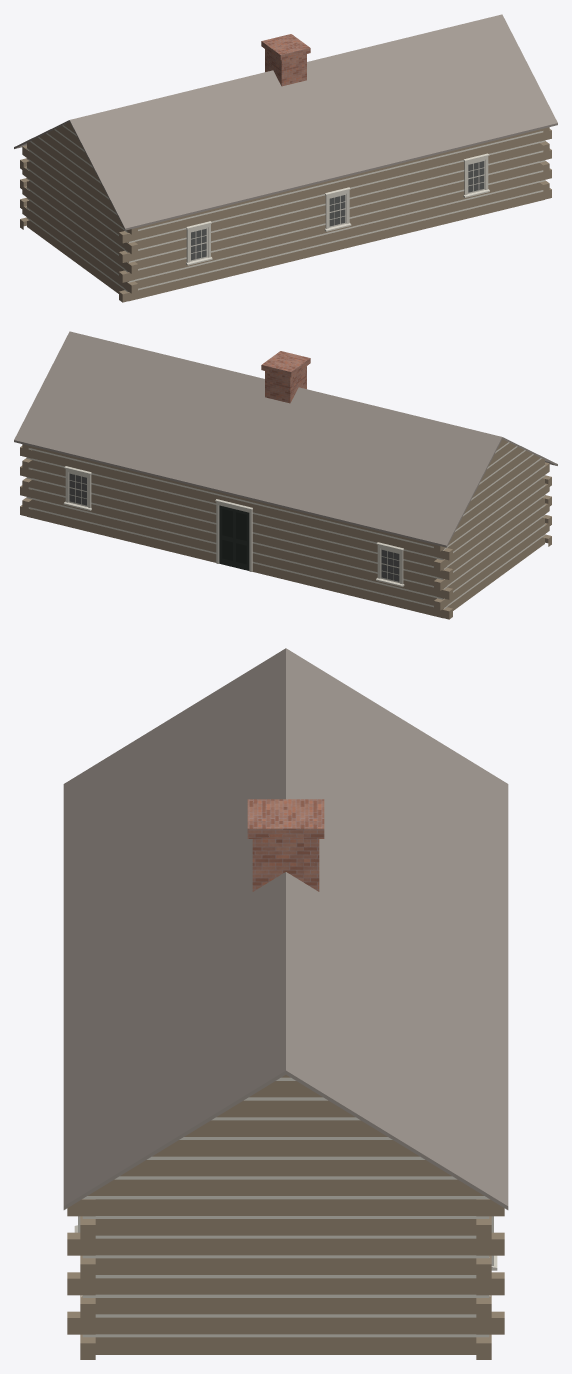
The model's file is fort_dearborn_sutlers_store__log_1816.glb.
3 views of the same model, one above another, from view 1: azimuth 30°, elevation 25°; view 2: azimuth 150°, elevation 25°; view 3: azimuth 270°, elevation 25° (orthographic). The views are drawn at different scales.
Parts seen in each view (by area): view 1: fort_dearborn_sutlers_store__log_1816; view 2: fort_dearborn_sutlers_store__log_1816; view 3: fort_dearborn_sutlers_store__log_1816.
Part boxes in pixels (box(x1,y1,x2,y2)): fort_dearborn_sutlers_store__log_1816: box(14, 14, 557, 302); fort_dearborn_sutlers_store__log_1816: box(14, 331, 557, 619); fort_dearborn_sutlers_store__log_1816: box(63, 648, 508, 1359).
Size of the model in its own units: 15.61 by 5.82 by 6.95.
Materials: 7 (1 with a texture image).
